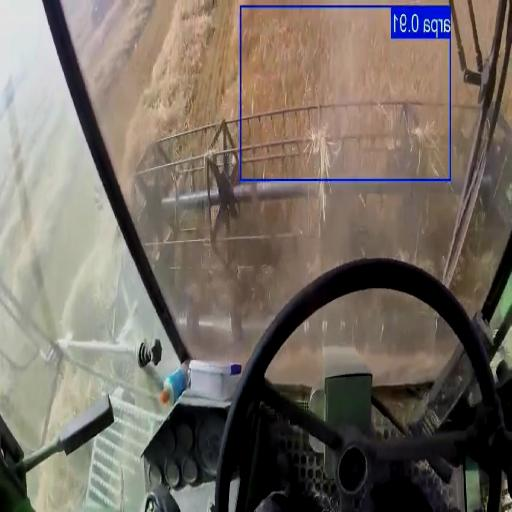arpa: (242, 9, 447, 112), (189, 0, 243, 125)
